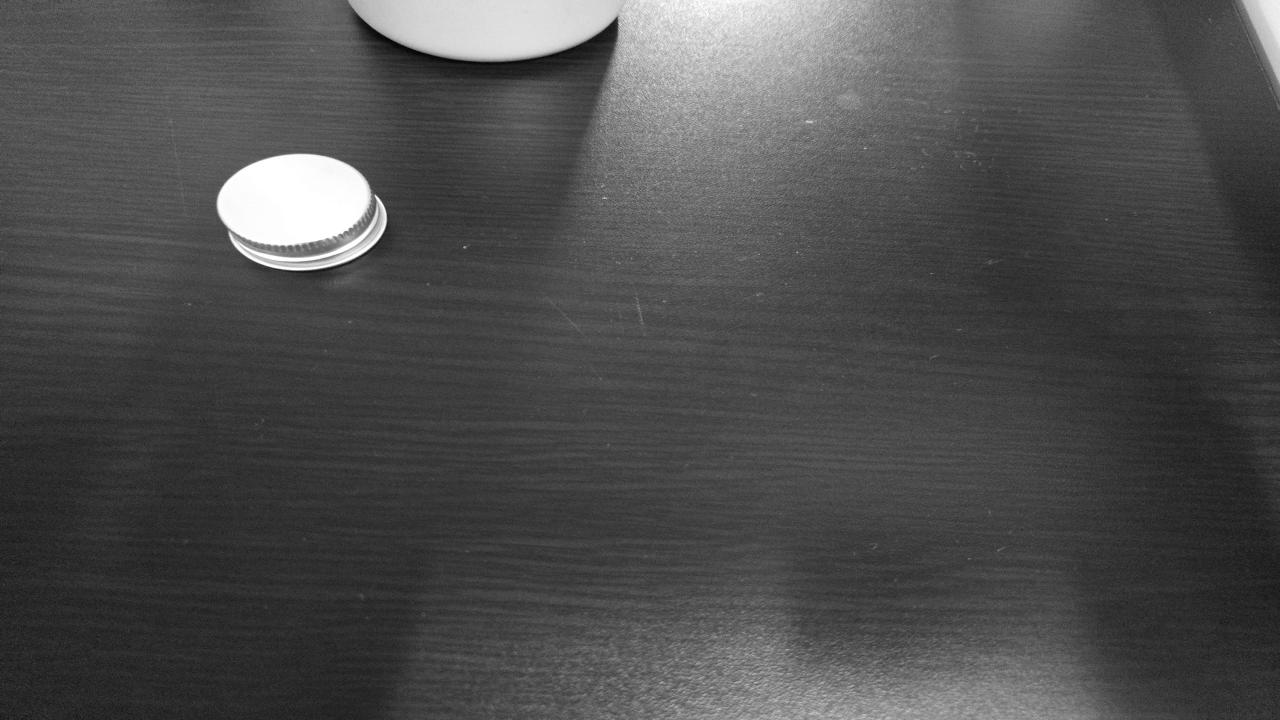bottle_cap: (219, 155, 387, 271)
